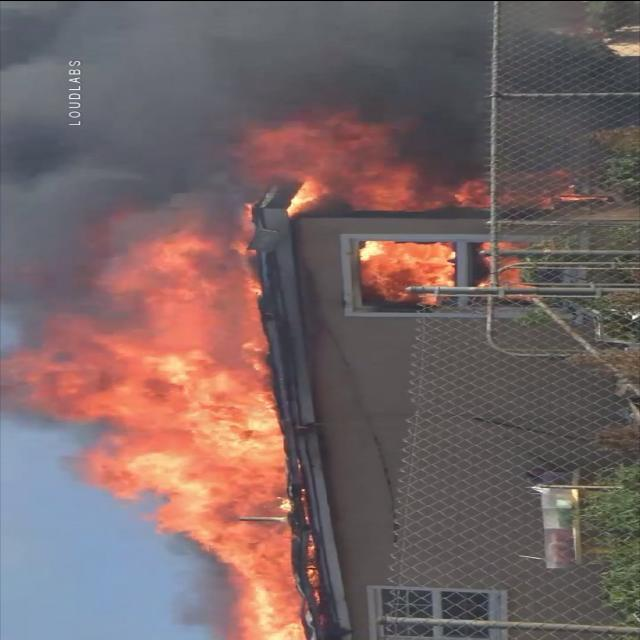Fire: (9, 142, 565, 640)
